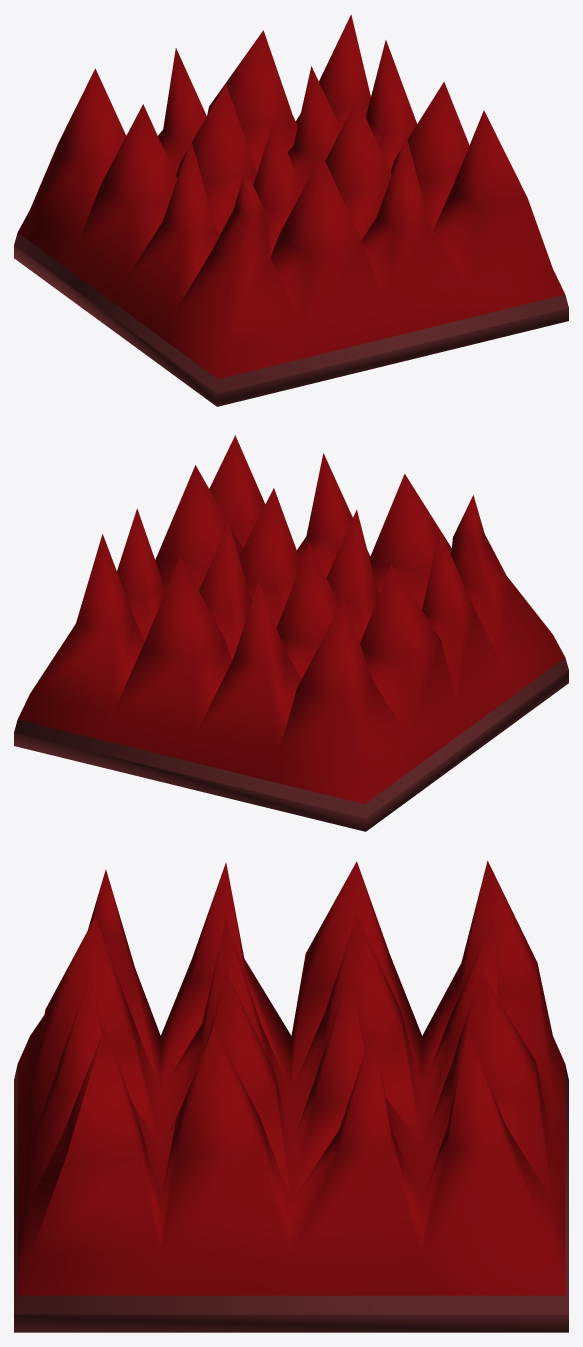
Rendered from Spikes.fbx.
3 views of the same model, one above another, from view 1: azimuth 30°, elevation 25°; view 2: azimuth 150°, elevation 25°; view 3: azimuth 270°, elevation 25° (orthographic). The views are drawn at different scales.
Visible parts, largest first — view 1: Spikes; view 2: Spikes; view 3: Spikes.
Part boxes in pixels (left/top/right/bottom): Spikes: left=14, top=14, right=568, bottom=406; Spikes: left=14, top=435, right=568, bottom=831; Spikes: left=14, top=860, right=568, bottom=1332.
Bounding box in the file's own units: 421 × 228 × 421.
